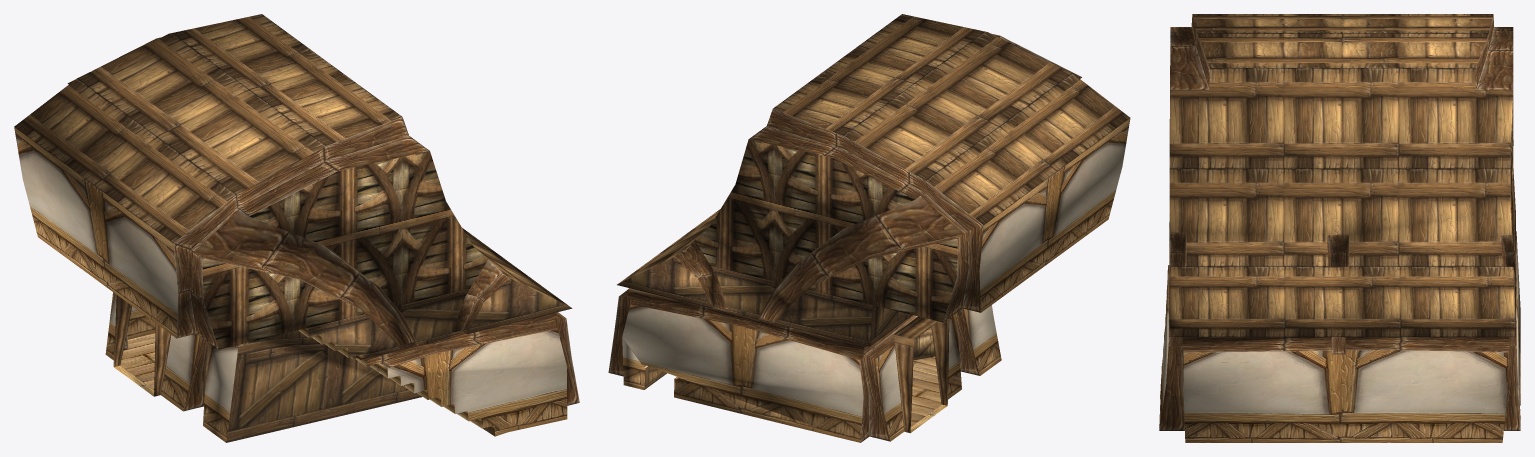
The model's file is stormwind_197.fbx.
3 views of the same model, side by side, from view 1: azimuth 30°, elevation 25°; view 2: azimuth 150°, elevation 25°; view 3: azimuth 270°, elevation 25° (orthographic). The views are drawn at different scales.
Parts seen in each view (by area): view 1: stormwind_197_55, stormwind_197_48, stormwind_197_49, stormwind_197_53, stormwind_197_56, stormwind_197_51; view 2: stormwind_197_55, stormwind_197_48, stormwind_197_49, stormwind_197_53, stormwind_197_56, stormwind_197_51, stormwind_197_59; view 3: stormwind_197_55, stormwind_197_48, stormwind_197_53, stormwind_197_56, stormwind_197_49.
Part boxes in pixels (left/top/right/bottom): stormwind_197_55: left=14, top=14, right=571, bottom=307; stormwind_197_48: left=14, top=127, right=567, bottom=442; stormwind_197_49: left=113, top=151, right=487, bottom=396; stormwind_197_53: left=67, top=37, right=579, bottom=436; stormwind_197_56: left=226, top=278, right=572, bottom=442; stormwind_197_51: left=120, top=333, right=155, bottom=389; stormwind_197_55: left=617, top=14, right=1130, bottom=284; stormwind_197_48: left=622, top=118, right=1130, bottom=442; stormwind_197_49: left=694, top=139, right=957, bottom=433; stormwind_197_53: left=608, top=33, right=1081, bottom=442; stormwind_197_56: left=617, top=257, right=912, bottom=389; stormwind_197_51: left=910, top=356, right=941, bottom=426; stormwind_197_59: left=913, top=327, right=935, bottom=360; stormwind_197_55: left=1169, top=14, right=1515, bottom=336; stormwind_197_48: left=1159, top=236, right=1520, bottom=442; stormwind_197_53: left=1159, top=15, right=1520, bottom=430; stormwind_197_56: left=1169, top=168, right=1520, bottom=405; stormwind_197_49: left=1169, top=65, right=1513, bottom=245.
Size of the model in its own units: 18.05 by 13.59 by 14.85.
